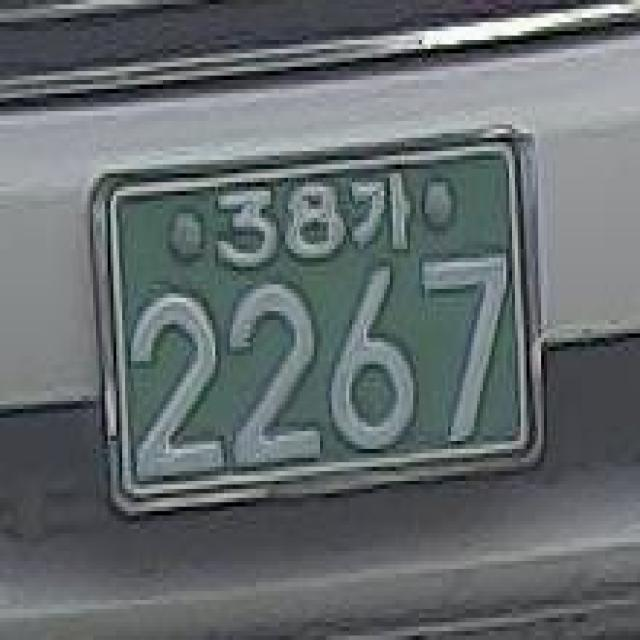illegal_plate: (84, 125, 550, 525)
